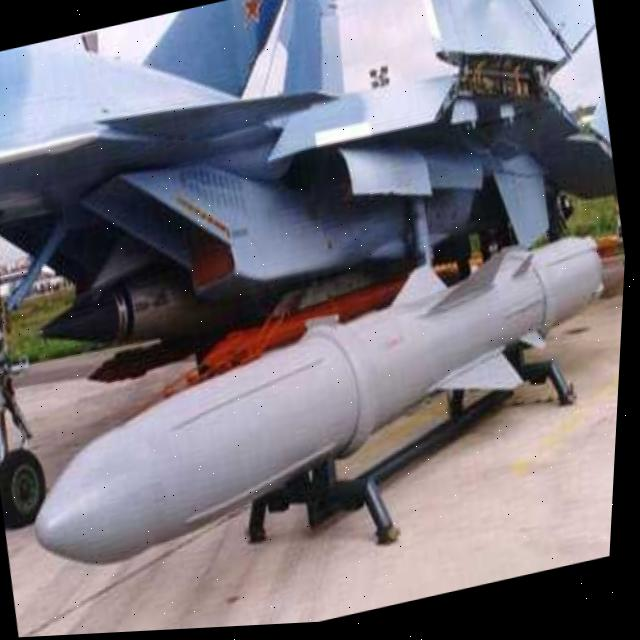missile: (5, 202, 631, 600)
